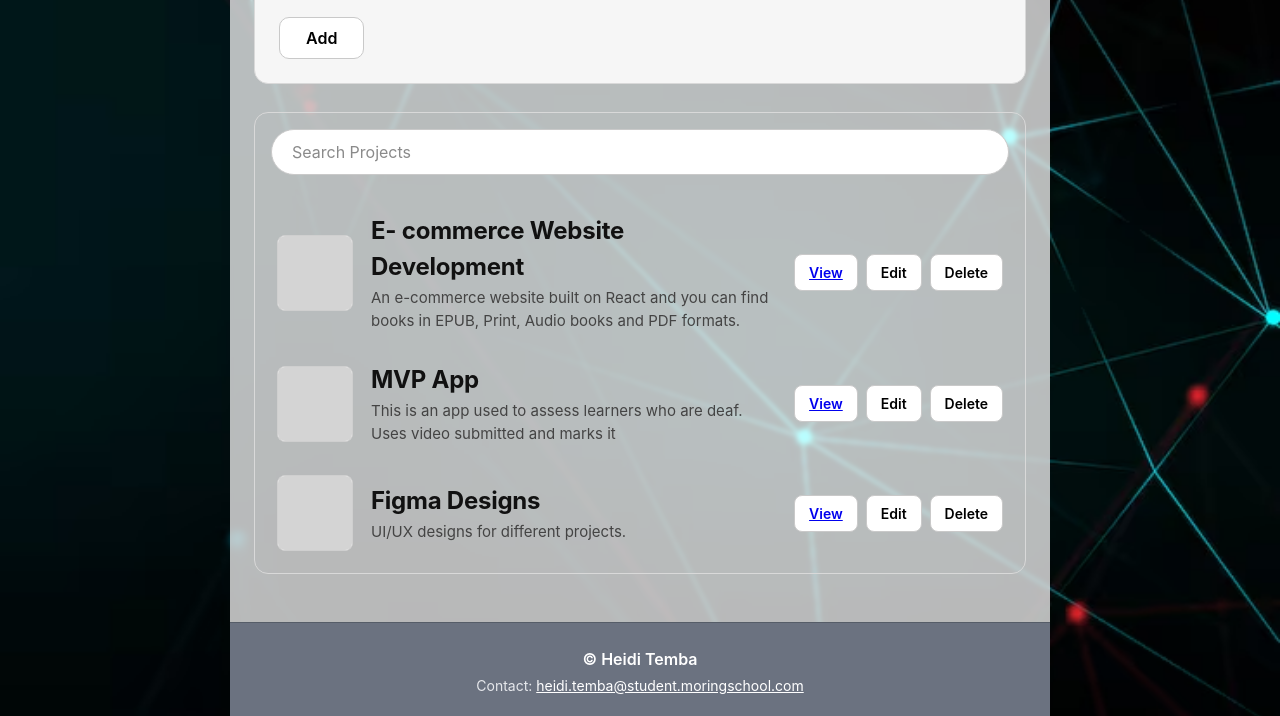
Scenario: App (routing + CRUD) › UPDATE: clicking Edit loads the project into the form inline
(page scrolled)
Click the button "Edit" in the row of "MVP App" at (894, 404), box [866,385,922,422]
(page scrolled)
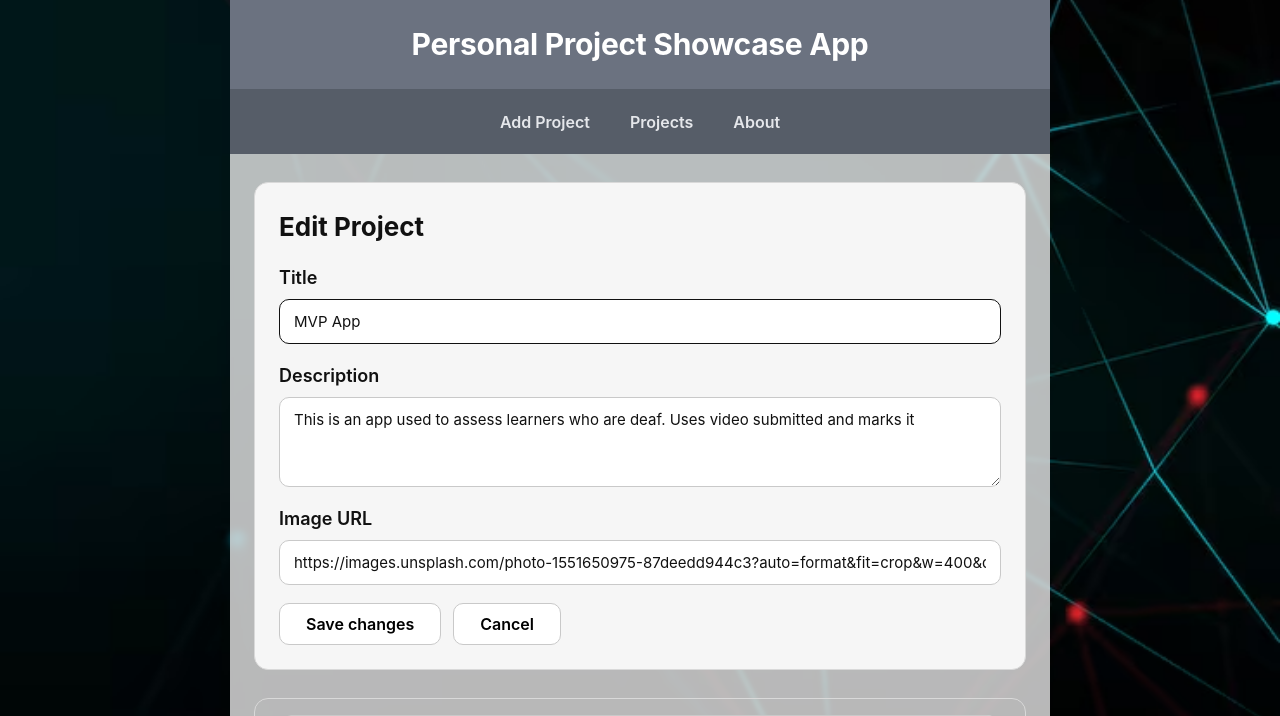
Expected: the field labelled "Title" holds "MVP App", [279,299,1001,344]
Expected: the button "Save changes" is shown, [279,603,441,645]
